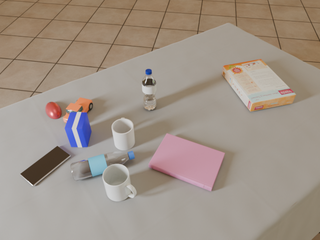book: (149, 133, 225, 191)
bottle: (71, 151, 134, 181), (142, 69, 156, 110)
box: (222, 59, 296, 111), (65, 112, 91, 147)
cup: (103, 164, 136, 201), (112, 118, 135, 150)
mouse: (45, 102, 61, 119)
phone: (20, 146, 71, 186)
toy_car: (63, 98, 93, 123)
